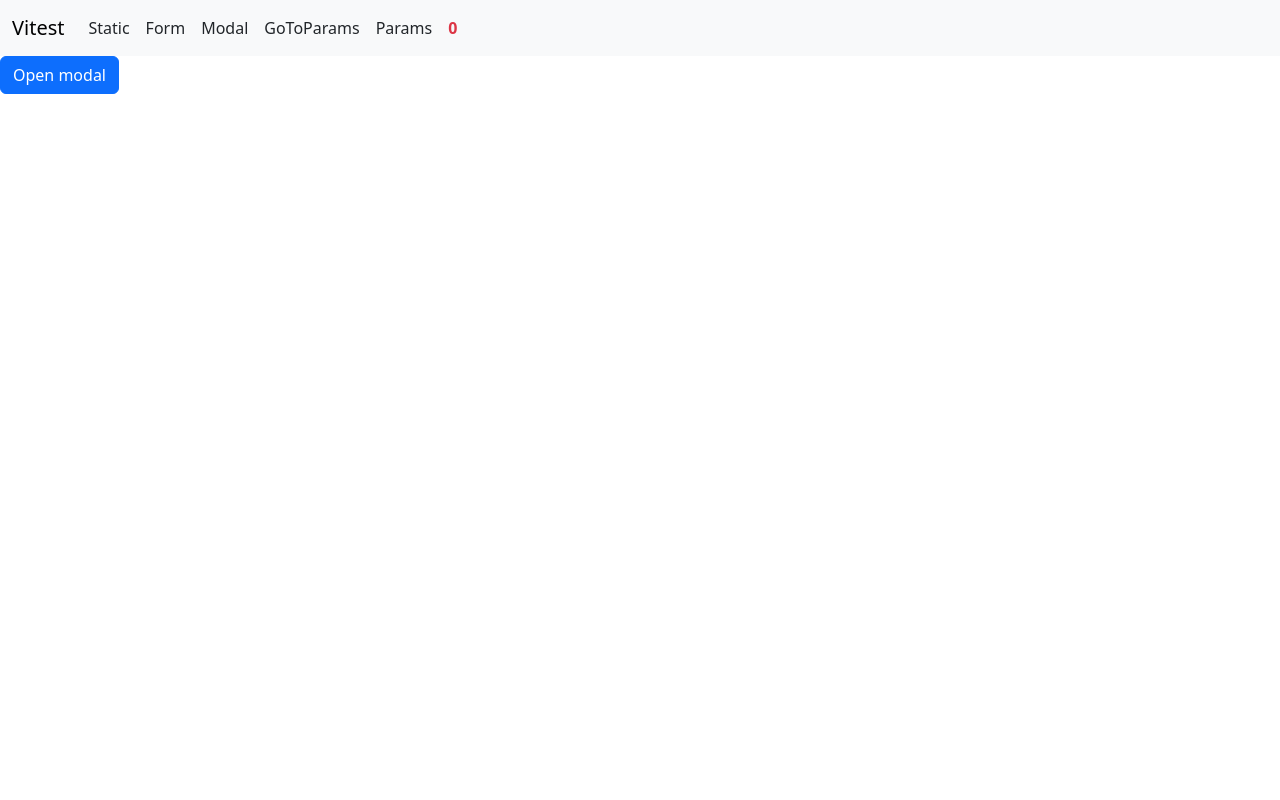
modal page › open modal button should open the modal
Click the button with test id "open-modal".
click(60, 75)  # box [0,56,119,94]
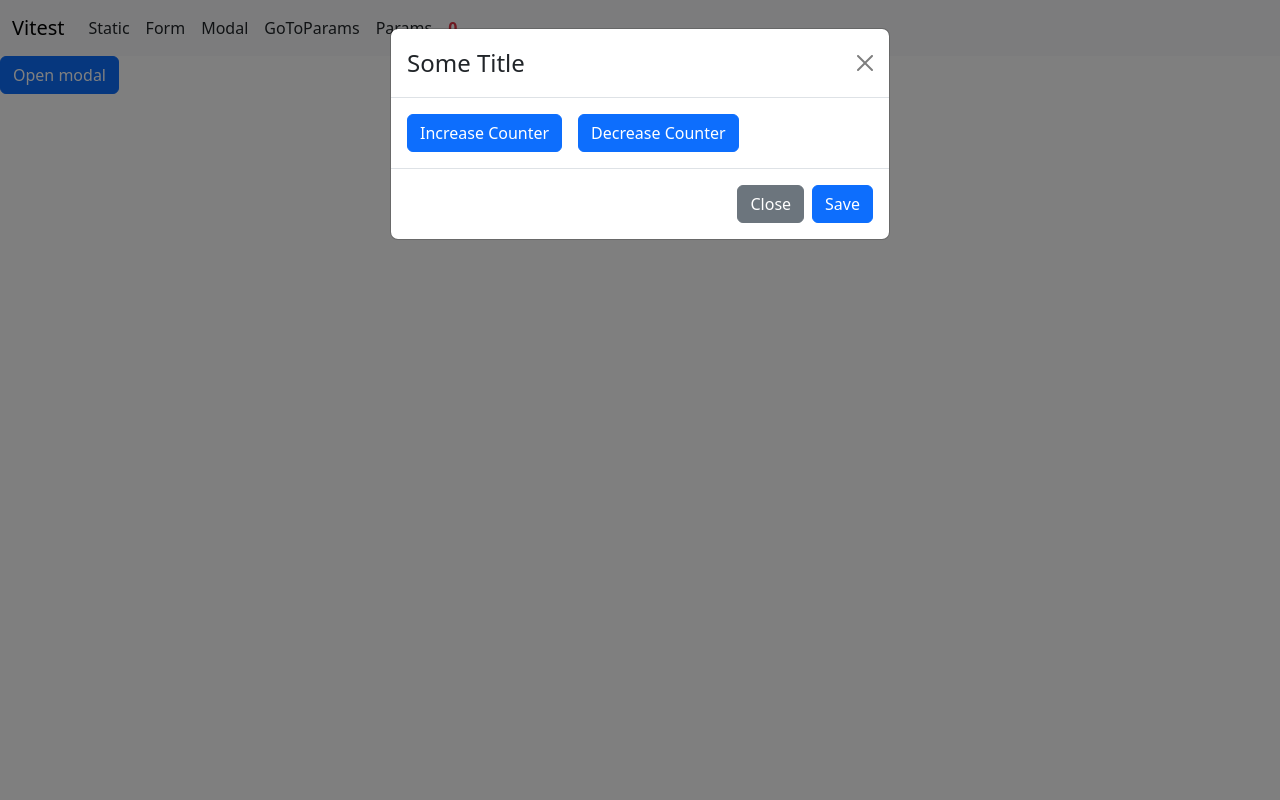
expect the dialog is shown: met, box [390,28,890,240]
